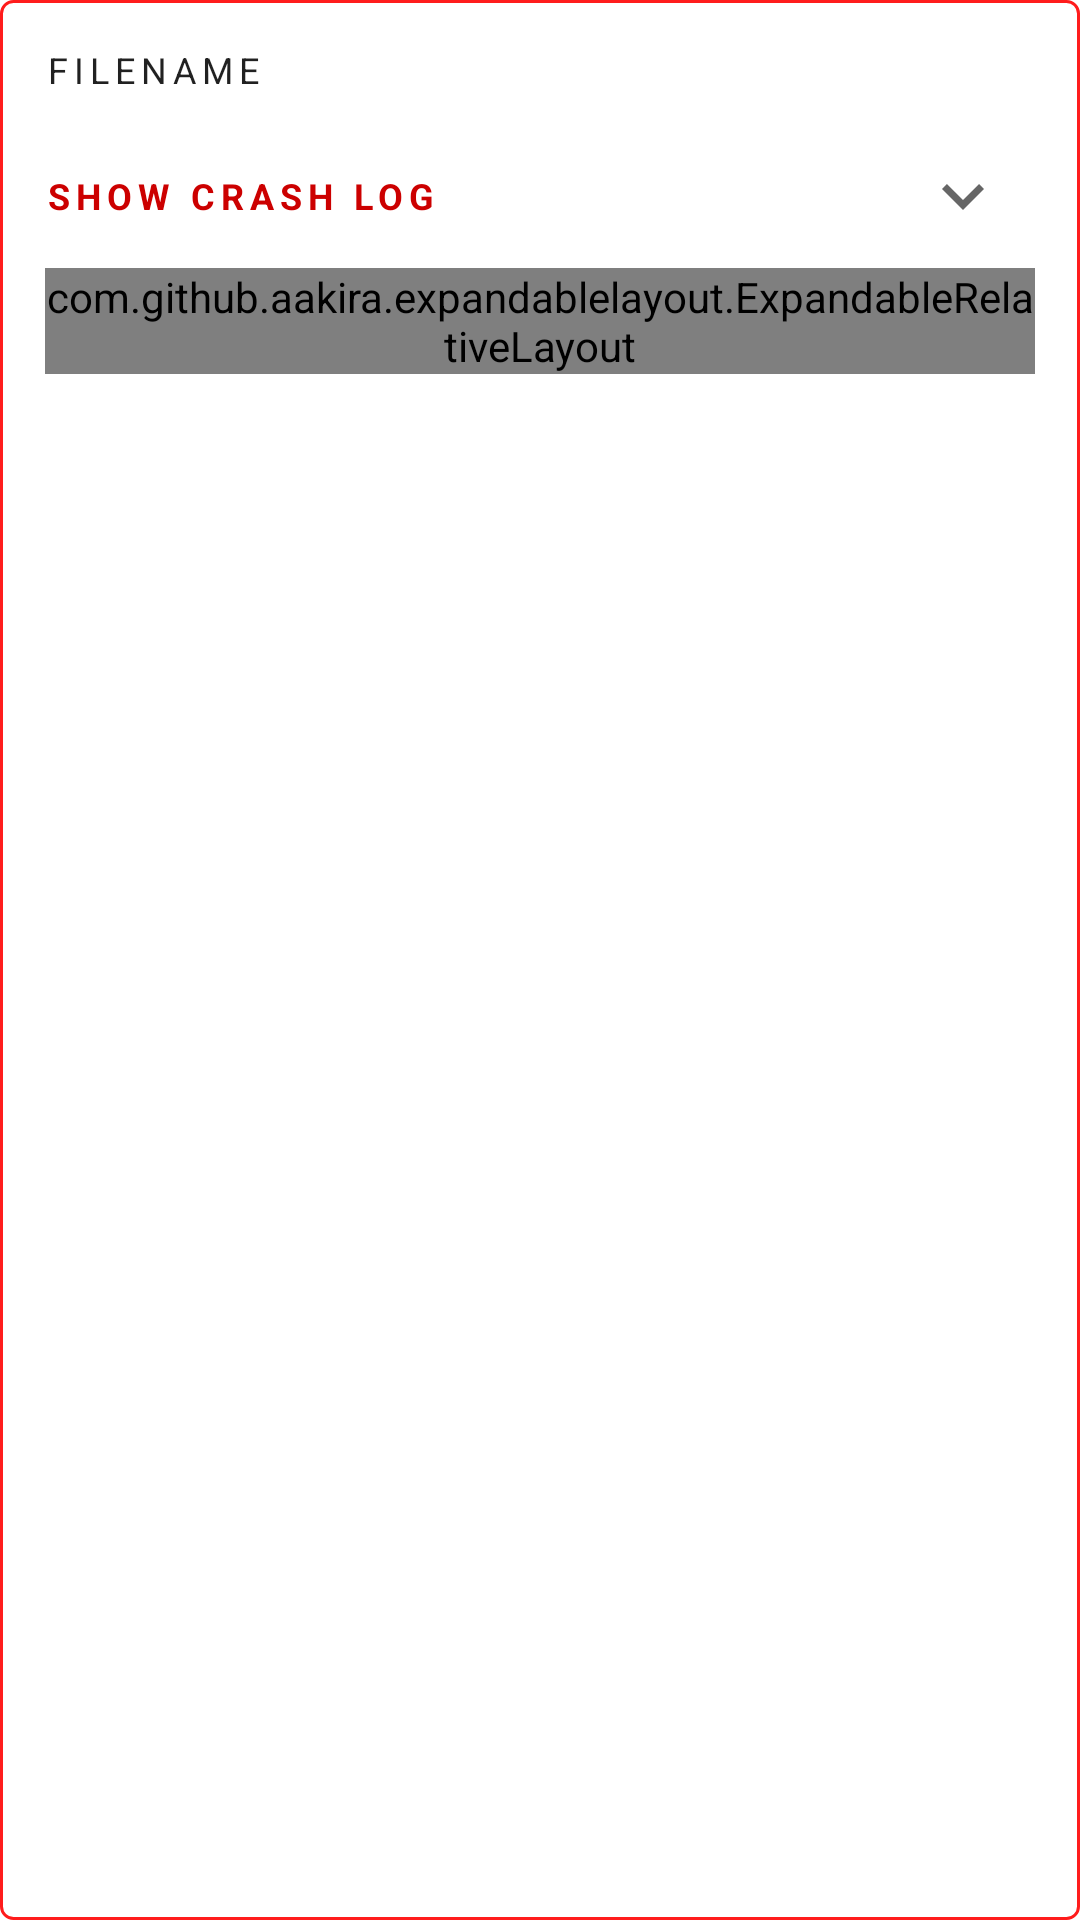

Where to tap for icons on this 1080px×1920px app screen, as (x=x, y=y):
arrow down: (x=963, y=197)
